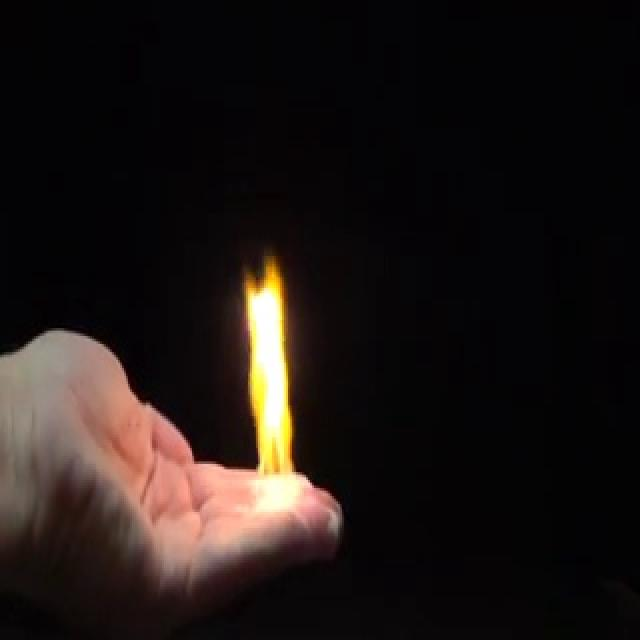fire: (237, 237, 306, 532)
